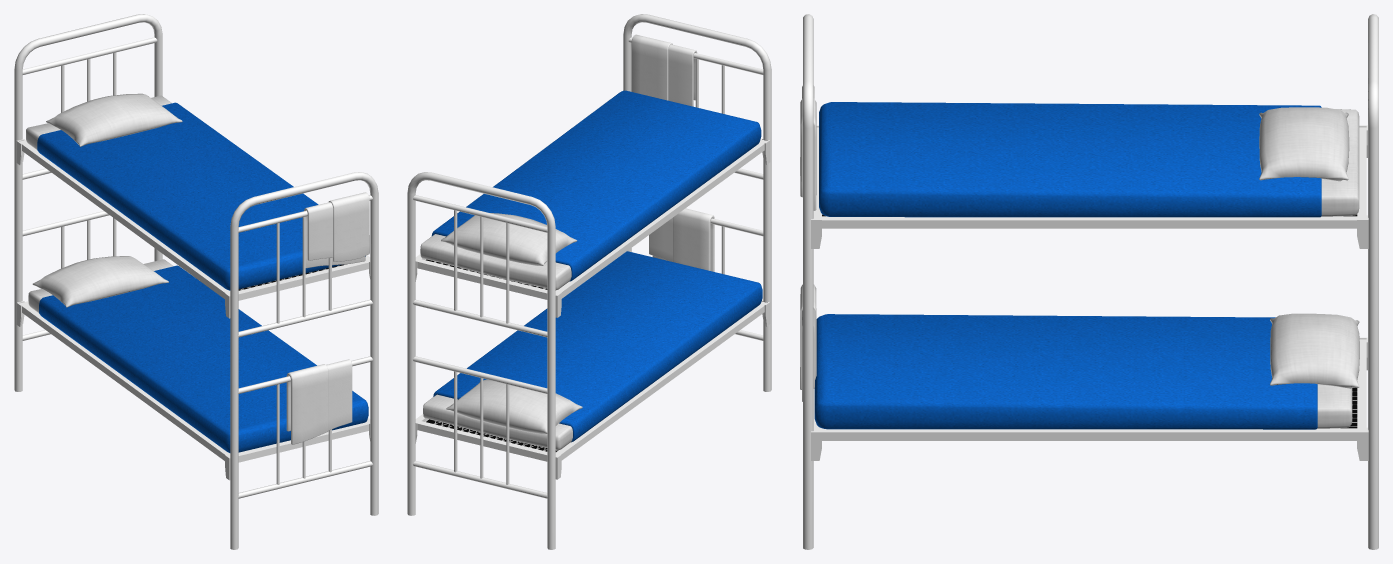
File: Bed.fbx
3 renders of one model, left to right at view 1: azimuth 30°, elevation 25°; view 2: azimuth 150°, elevation 25°; view 3: azimuth 270°, elevation 25°, orthographic. The views are drawn at different scales.
Parts seen in each view (by area): view 1: Planket002, Planket001, Railing002, Railing001, Towel001, Towel002, Pillow002, Pillow001, Bedframes002, Bedframe001, Mattress002, Mattress001; view 2: Planket001, Planket002, Railing001, Railing002, Bedframe001, Bedframes002, Pillow001, Towel002, Pillow002, Towel001, Mattress002, Mattress001 (+1 smaller); view 3: Planket001, Planket002, Bedframes002, Bedframe001, Pillow001, Pillow002, Railing001, Railing002, Mattress002, Mattress001, Towel002, Towel001.
Boxes of the visible parts, <box> form: Planket002: <box>37,102,365,290</box>; Planket001: <box>39,265,368,452</box>; Railing002: <box>230,172,378,549</box>; Railing001: <box>14,14,162,391</box>; Towel001: <box>286,359,352,444</box>; Towel002: <box>304,192,369,268</box>; Pillow002: <box>46,93,182,146</box>; Pillow001: <box>32,256,168,307</box>; Bedframes002: <box>16,139,370,318</box>; Bedframe001: <box>16,301,370,480</box>; Mattress002: <box>26,95,171,149</box>; Mattress001: <box>28,259,173,312</box>; Planket001: <box>433,251,762,442</box>; Planket002: <box>431,90,761,281</box>; Railing001: <box>407,172,555,549</box>; Railing002: <box>623,14,771,391</box>; Bedframe001: <box>415,300,770,479</box>; Bedframes002: <box>415,138,770,317</box>; Pillow001: <box>446,379,582,434</box>; Towel002: <box>631,34,697,106</box>; Pillow002: <box>441,213,577,265</box>; Towel001: <box>649,208,714,271</box>; Mattress002: <box>420,234,571,290</box>; Mattress001: <box>423,394,572,450</box>; Planket001: <box>814,314,1317,429</box>; Planket002: <box>819,102,1321,217</box>; Bedframes002: <box>811,125,1368,248</box>; Bedframe001: <box>811,337,1368,460</box>; Pillow001: <box>1270,313,1359,388</box>; Pillow002: <box>1259,107,1349,181</box>; Railing001: <box>1368,14,1378,549</box>; Railing002: <box>803,14,813,549</box>; Mattress002: <box>1321,109,1359,216</box>; Mattress001: <box>1317,384,1352,428</box>; Towel002: <box>800,85,816,210</box>; Towel001: <box>800,284,816,401</box>.
Bounding box in the file's own units: 71.15 × 159 × 184.
2 materials, 2 textured.
